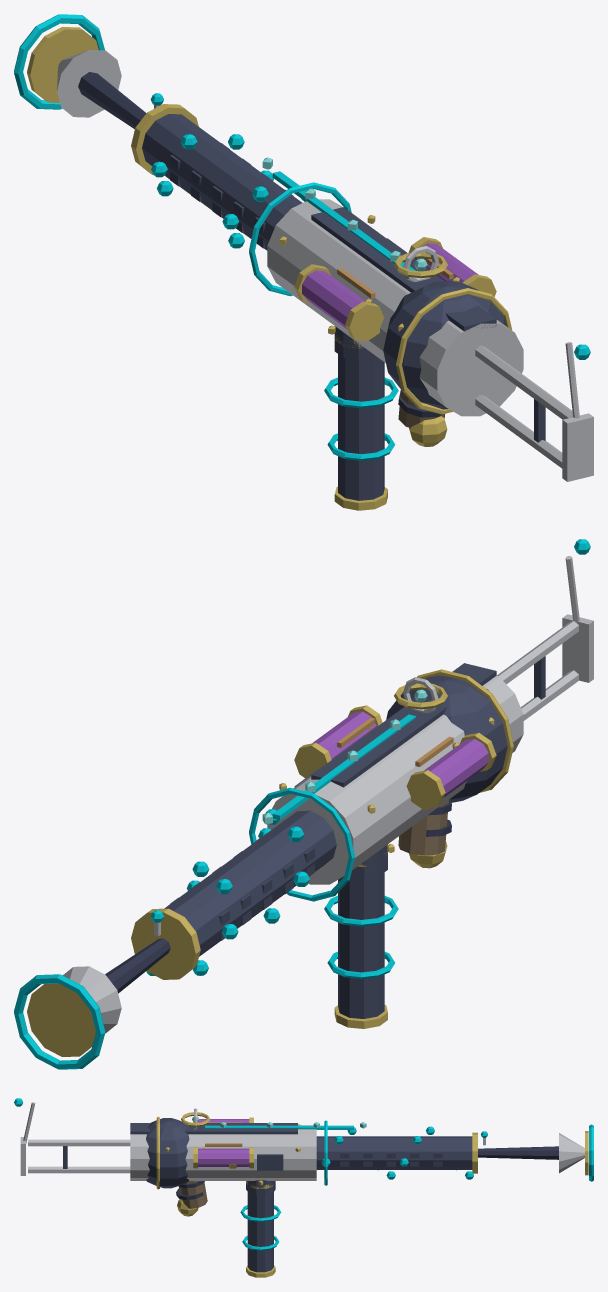
Rendered from mond_mp40.glb.
The picture shows the model from 3 angles, top to bottom: view 1: azimuth 30°, elevation 25°; view 2: azimuth 150°, elevation 25°; view 3: azimuth 270°, elevation 25°; orthographic projection. The views are drawn at different scales.
Visible parts, largest first — view 1: mond_mp40; view 2: mond_mp40; view 3: mond_mp40.
Part boxes in pixels (x1,y1,x2,y2): mond_mp40: (14, 14, 593, 510); mond_mp40: (14, 539, 593, 1069); mond_mp40: (14, 1098, 593, 1277).
Size of the model in its own units: 0.1 by 0.2055 by 0.6226.
